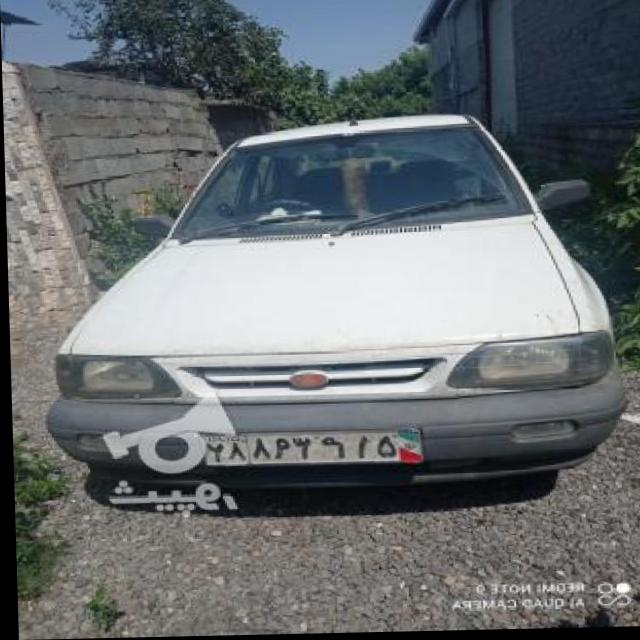licence: (199, 430, 423, 466)
